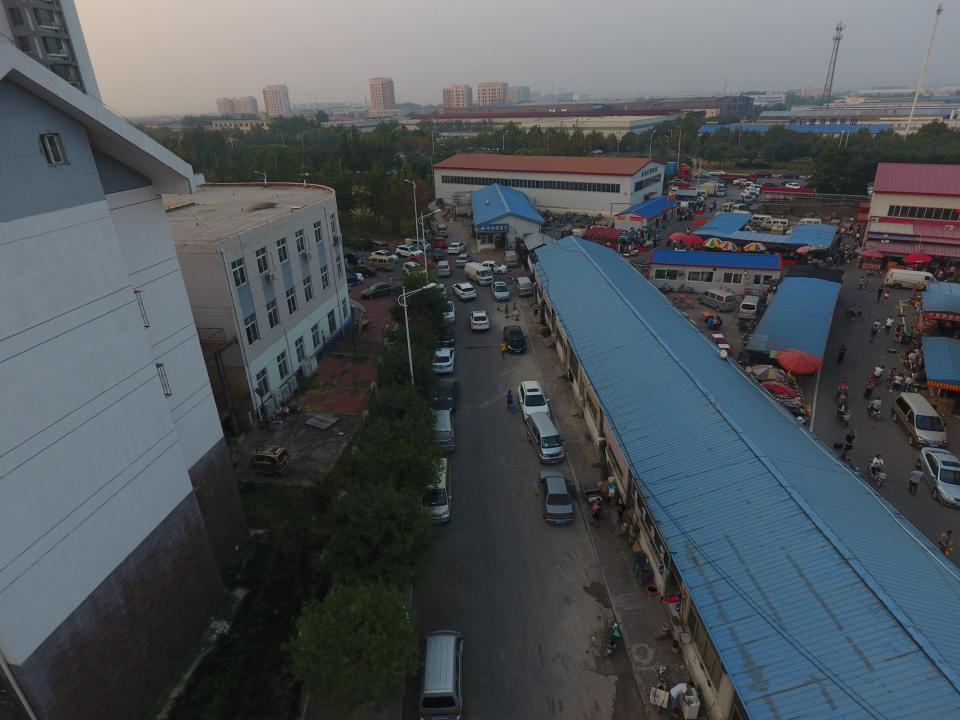car: (916, 447, 960, 510), (538, 469, 574, 524), (430, 378, 460, 415), (503, 325, 527, 354), (360, 282, 399, 299), (330, 272, 364, 289), (345, 264, 377, 278), (437, 301, 456, 323), (477, 261, 508, 274), (491, 281, 510, 301), (341, 252, 368, 265), (370, 250, 398, 262), (456, 253, 472, 267), (448, 242, 466, 254), (758, 182, 781, 190), (808, 172, 829, 180), (685, 194, 705, 202), (779, 172, 800, 179), (668, 178, 688, 185), (704, 181, 724, 188), (733, 178, 753, 185), (434, 237, 446, 248), (693, 171, 711, 178), (785, 183, 803, 190), (780, 181, 800, 187), (708, 170, 726, 176), (754, 172, 772, 178), (716, 188, 727, 196), (591, 149, 603, 154)
truck: (640, 161, 692, 181), (719, 172, 757, 182), (690, 184, 716, 196), (770, 223, 786, 237), (730, 200, 744, 206)
van: (418, 629, 464, 720), (891, 392, 948, 450), (418, 457, 451, 523), (526, 412, 564, 464), (884, 268, 940, 292), (518, 381, 550, 421), (425, 410, 454, 453), (698, 288, 736, 312), (464, 262, 494, 285), (738, 295, 763, 320), (431, 348, 455, 373), (434, 318, 455, 346), (363, 255, 395, 272), (395, 244, 424, 260), (452, 282, 476, 301), (405, 236, 431, 253), (403, 262, 427, 280), (470, 310, 490, 330), (514, 276, 533, 296), (347, 238, 373, 252), (760, 218, 790, 230), (750, 214, 776, 227), (796, 218, 822, 229), (412, 229, 432, 243), (436, 260, 452, 277), (431, 284, 447, 300), (502, 250, 518, 266), (785, 226, 809, 236), (736, 225, 757, 236), (372, 240, 389, 253), (732, 210, 753, 220), (730, 204, 750, 214), (829, 219, 843, 233), (738, 192, 753, 205), (743, 186, 759, 197), (721, 202, 737, 213), (689, 190, 708, 199), (431, 248, 444, 261), (702, 183, 719, 192), (437, 224, 447, 238), (750, 183, 762, 194), (668, 188, 680, 196), (748, 190, 756, 200)
